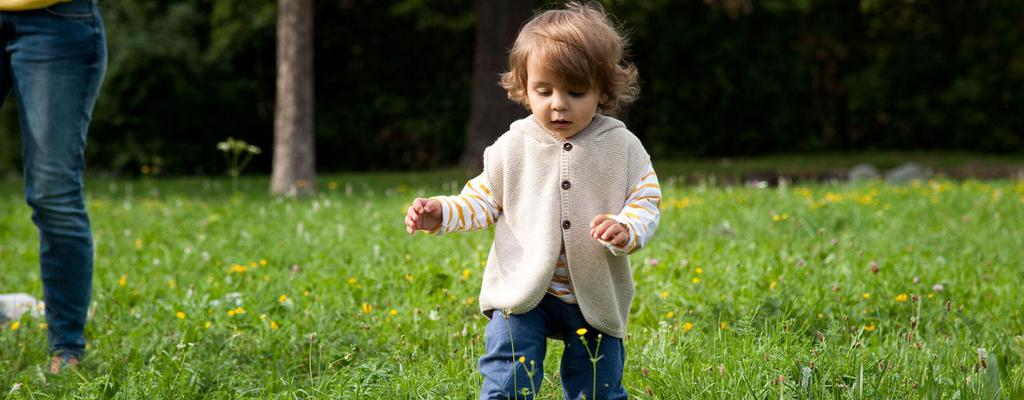child: (389, 5, 702, 400)
